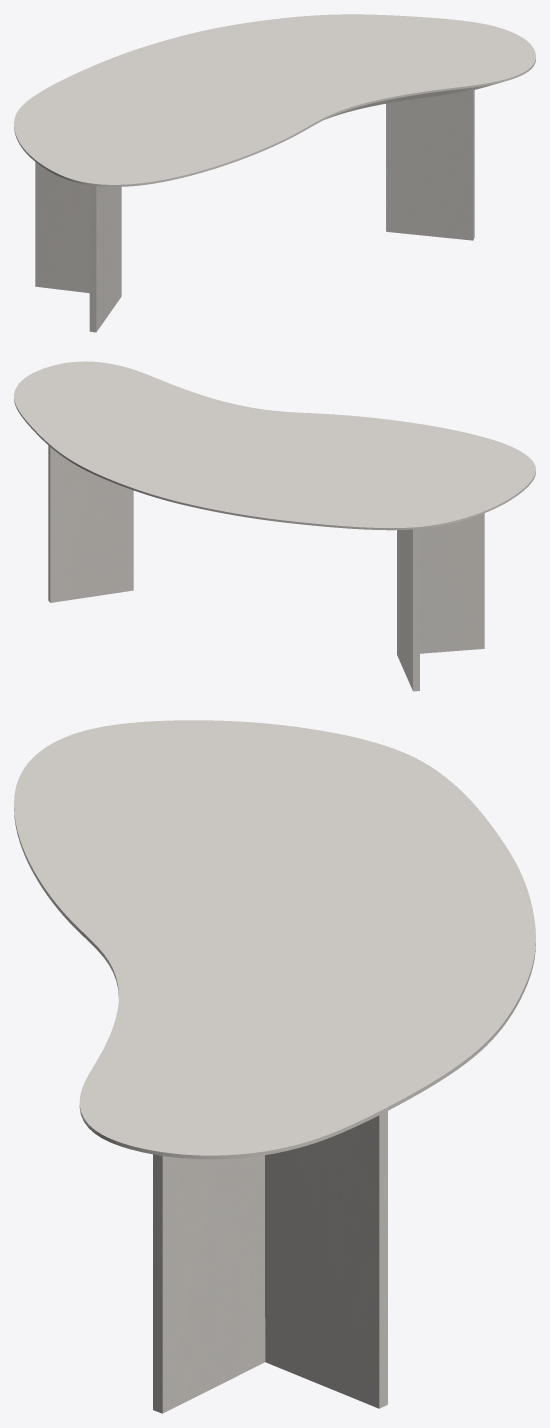
Rendered from pearlwhite_leaf1_facet_valleyv.glb.
3 renders of one model, top to bottom at view 1: azimuth 30°, elevation 25°; view 2: azimuth 150°, elevation 25°; view 3: azimuth 270°, elevation 25°, orthographic. The views are drawn at different scales.
Parts seen in each view (by area): view 1: facet_leaf1, valleyv; view 2: facet_leaf1, valleyv; view 3: facet_leaf1, valleyv.
Boxes of the visible parts, left/top/right/bottom form: facet_leaf1: left=14, top=14, right=535, bottom=186; valleyv: left=35, top=90, right=474, bottom=332; facet_leaf1: left=14, top=361, right=535, bottom=530; valleyv: left=48, top=445, right=484, bottom=691; facet_leaf1: left=14, top=720, right=535, bottom=1159; valleyv: left=153, top=1111, right=387, bottom=1413.
Size of the model in its own units: 7.5 by 2.53 by 3.8.
Materials: 1 (1 with a texture image).
